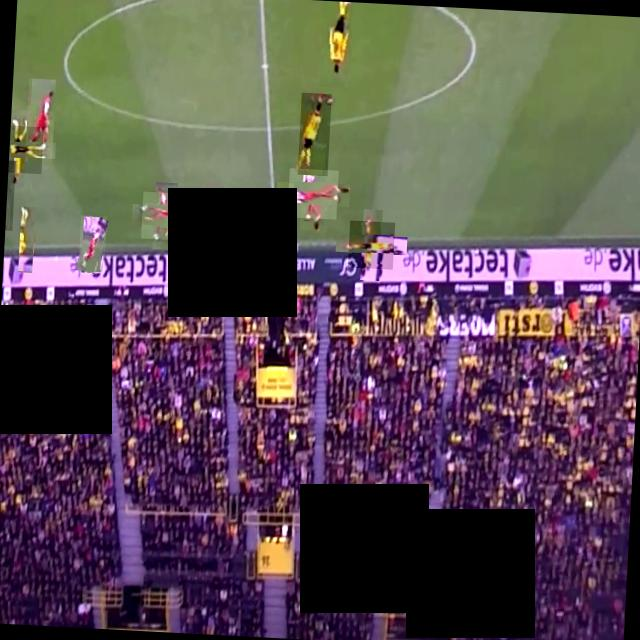ball: (228, 228, 238, 240)
referee: (4, 160, 15, 230)
soccer-player: (318, 0, 352, 87), (297, 92, 331, 175), (24, 77, 55, 162), (286, 168, 338, 218), (140, 190, 188, 240), (187, 192, 236, 240), (347, 220, 394, 268), (77, 214, 106, 274), (8, 124, 42, 174), (15, 205, 34, 272), (200, 232, 233, 266)
